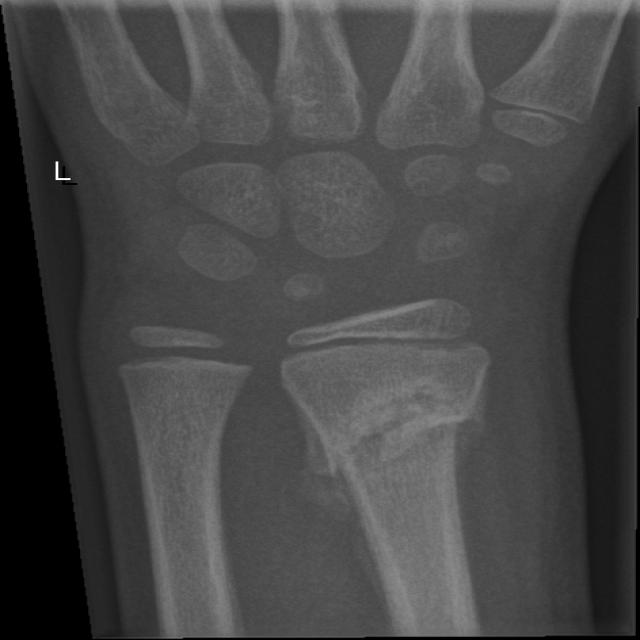radius fracture: (291, 377, 528, 581)
